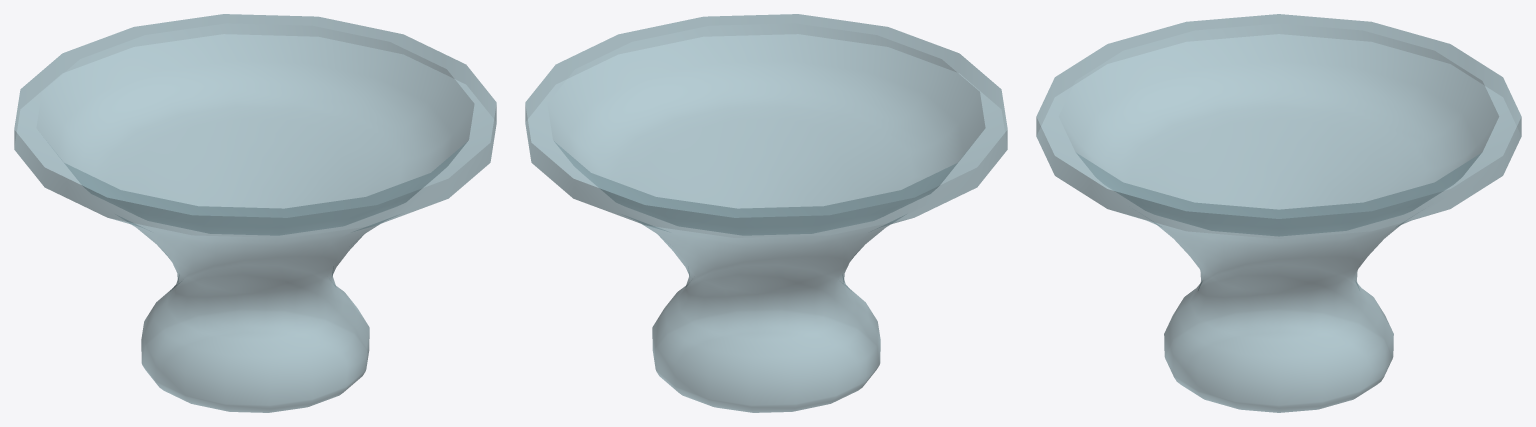
File: Misc_Bowl.glb
The picture shows the model from 3 angles, left to right: view 1: azimuth 30°, elevation 25°; view 2: azimuth 150°, elevation 25°; view 3: azimuth 270°, elevation 25°; orthographic projection.
Visible parts, largest first — view 1: Misc_Bowl.001; view 2: Misc_Bowl.001; view 3: Misc_Bowl.001.
Boxes of the visible parts, bbox=[...] form: Misc_Bowl.001: bbox=[14, 14, 496, 412]; Misc_Bowl.001: bbox=[525, 14, 1007, 412]; Misc_Bowl.001: bbox=[1036, 14, 1521, 412].
Bounding box in the file's own units: 0.2354 × 0.1366 × 0.2354.
